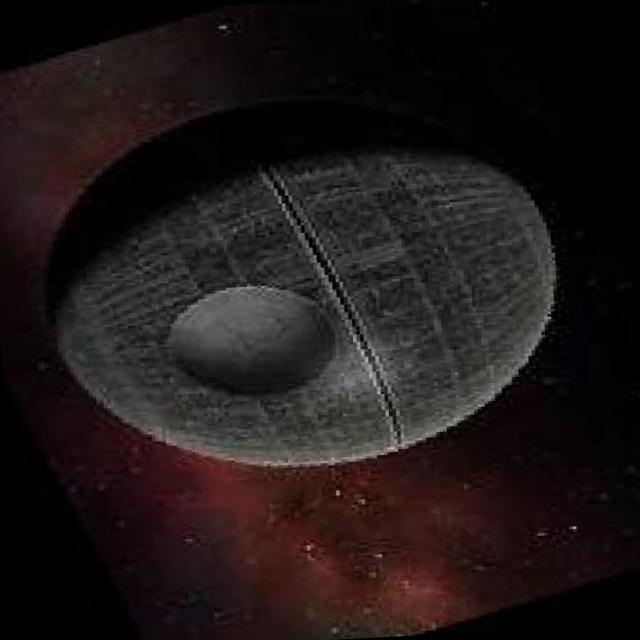Death Star: (31, 51, 588, 483)
